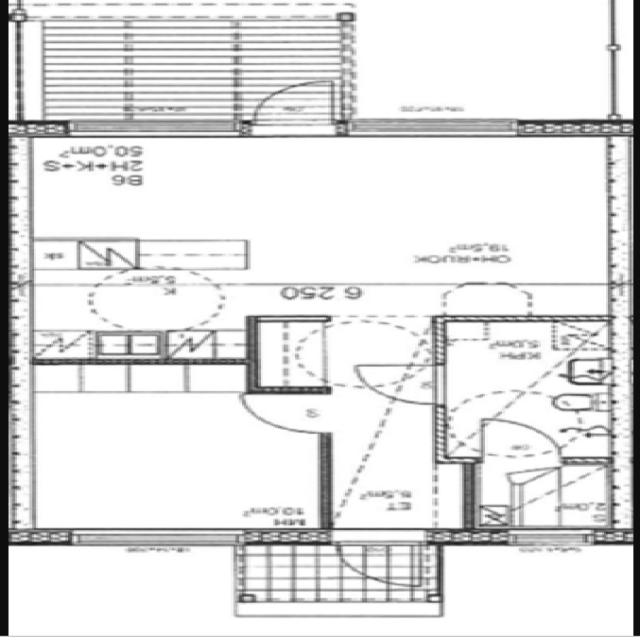door: (244, 78, 345, 134), (236, 391, 326, 436), (349, 358, 436, 403), (339, 547, 428, 589), (476, 417, 560, 461)
window: (48, 528, 235, 553), (43, 119, 240, 142), (347, 115, 527, 140), (500, 529, 599, 550), (333, 528, 432, 548)
zone: (26, 128, 621, 284), (17, 390, 324, 539), (23, 283, 434, 391), (431, 319, 632, 457), (472, 464, 628, 534)
